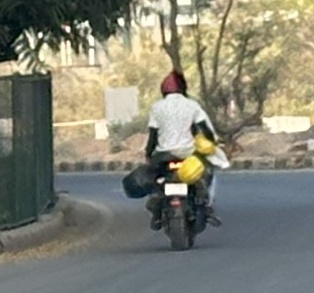BikeWithRider: (116, 65, 235, 253)
NoHelmet: (155, 66, 193, 101)
